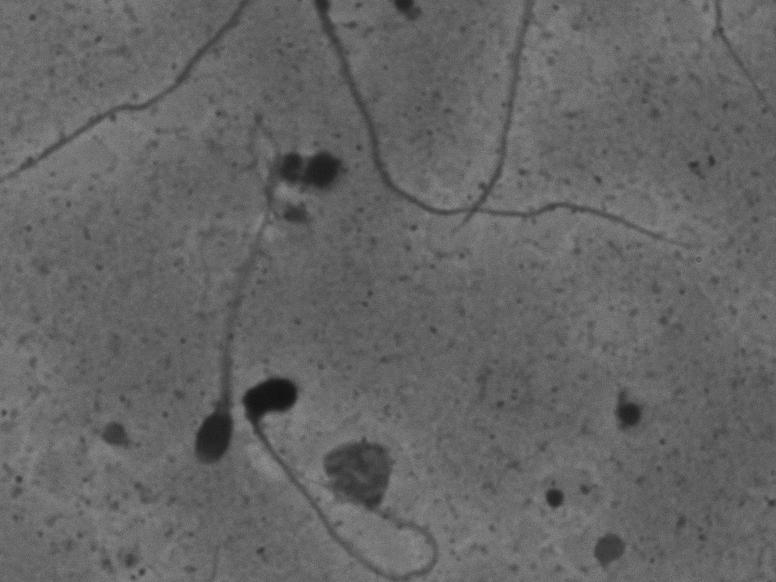Abnormal: (239, 352, 485, 579), (154, 148, 302, 491)
